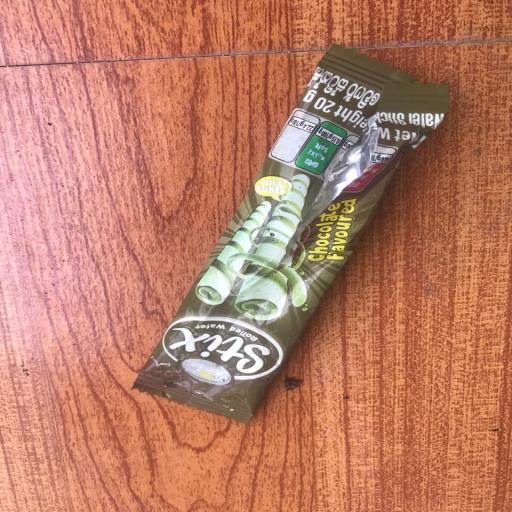waste: (126, 33, 460, 433)
